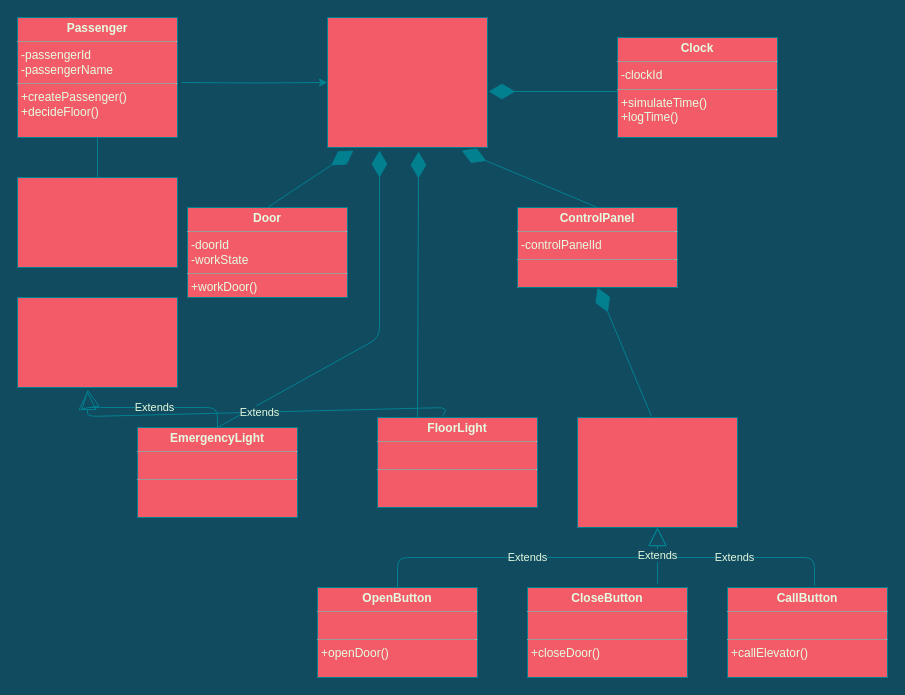
Image size: 905x695. Some labels were removed from this diagram. The shapes that lost their labels are listed below. From the top down, each one's box as (x1, y1, x2, y2) in pixels, then its label:
(326, 16, 488, 148): Elevator -elevatorId -elevatorName -passengerCapacity -workState +workElevator()
(16, 176, 178, 268): NumberGenerator -numberGeneratorId +createNumber()
(16, 296, 178, 388): Light -lightId -workState +workLight()
(576, 416, 738, 528): Button -buttonId -buttonName -workState +workButton()
